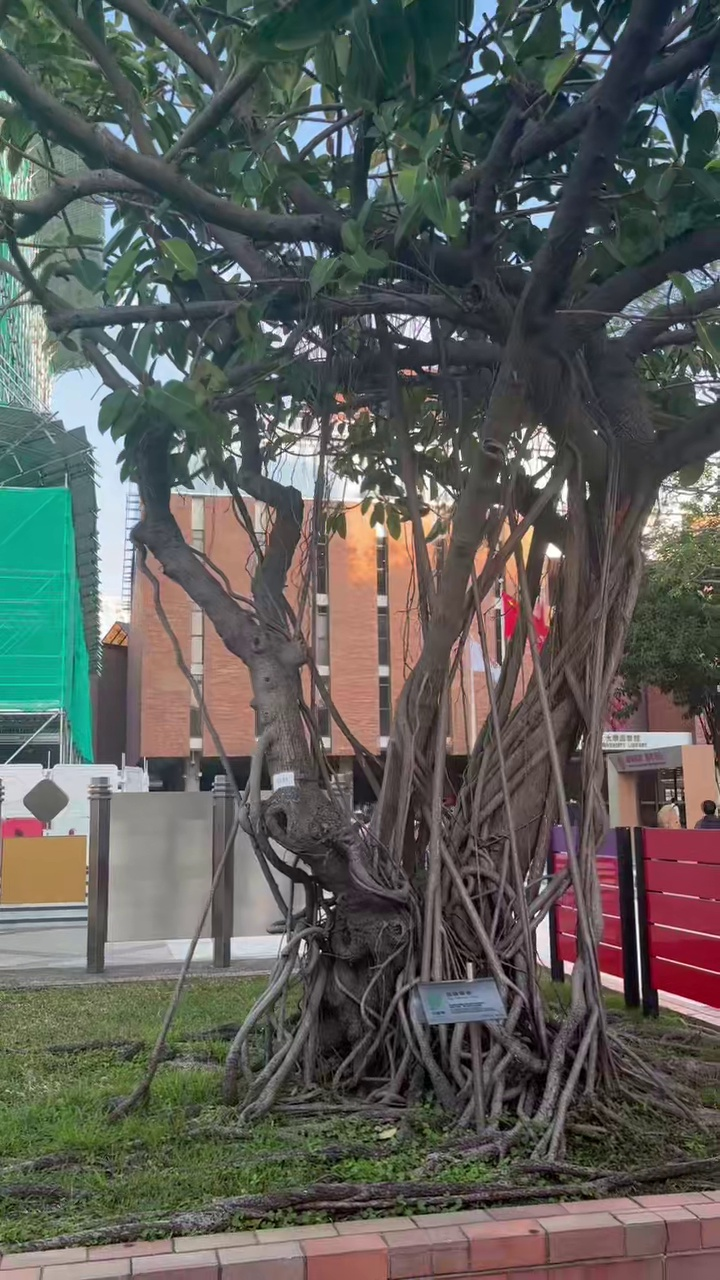Ficus elastica: (0, 0, 719, 1161)
